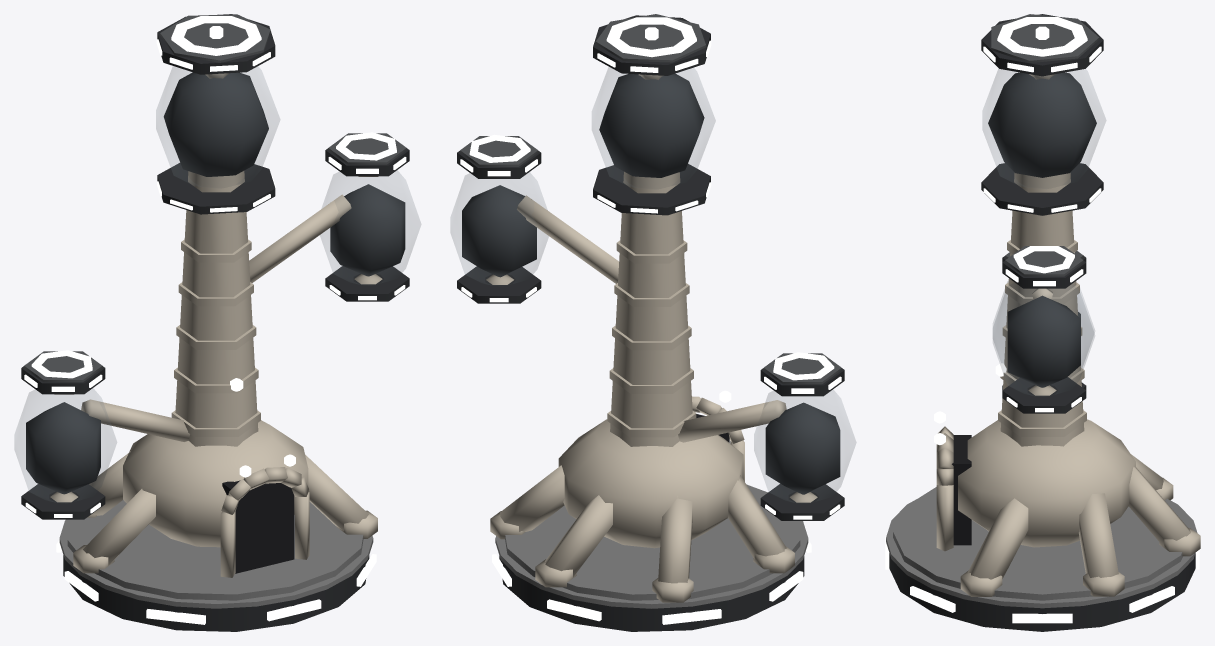
File: Skin_BioPod_T2.glb
The picture shows the model from 3 angles, left to right: view 1: azimuth 30°, elevation 25°; view 2: azimuth 150°, elevation 25°; view 3: azimuth 270°, elevation 25°; orthographic projection.
Visible parts, largest first — view 1: Skin_BioPod_T2; view 2: Skin_BioPod_T2; view 3: Skin_BioPod_T2.
Boxes of the visible parts, bbox=[...] form: Skin_BioPod_T2: bbox=[14, 14, 420, 631]; Skin_BioPod_T2: bbox=[450, 14, 856, 631]; Skin_BioPod_T2: bbox=[885, 14, 1200, 631].
Bounding box in the file's own units: 5.32 × 6.94 × 3.69.
